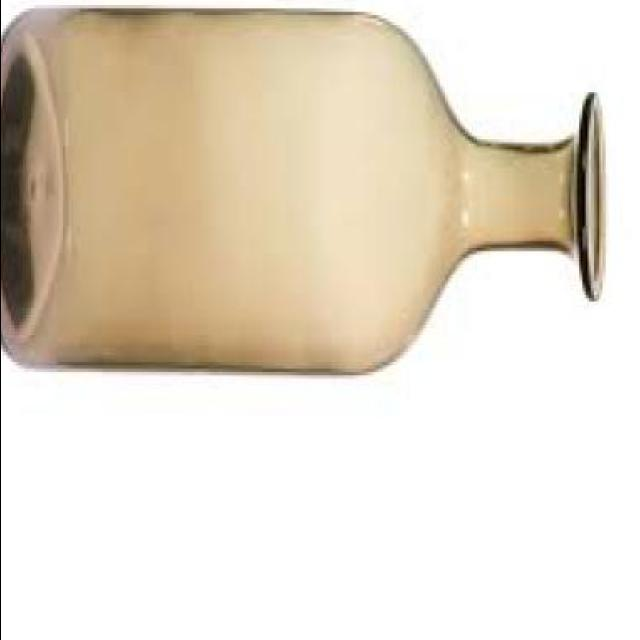kaca: (0, 5, 607, 372)
